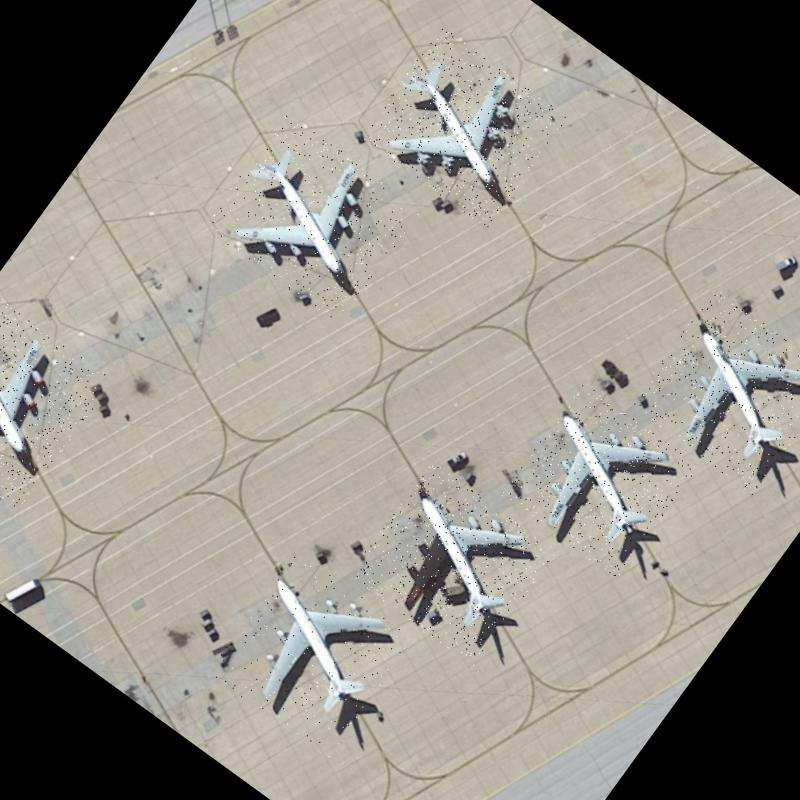A11: (202, 111, 421, 325), (207, 550, 416, 760), (347, 460, 556, 666), (360, 26, 567, 228), (500, 382, 698, 579), (628, 287, 800, 495), (0, 289, 113, 511)
